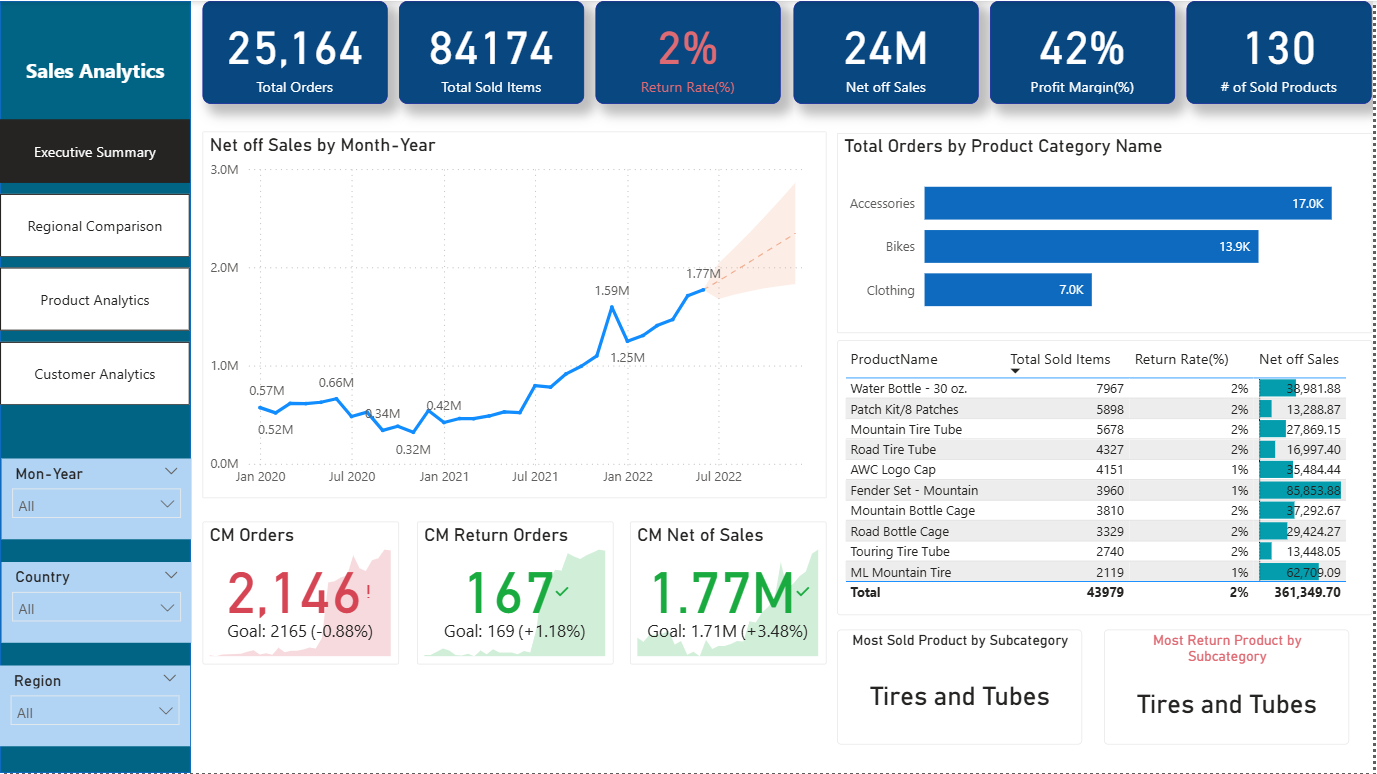

What the dashboard file says about the page in this screenshot:
{"tool":"powerbi","page":{"name":"Executive Summary","canvas":[1280,720],"ordinal":0},"visuals":[{"type":"shape","box":[0,0,178,720],"z":0},{"type":"textbox","box":[0,46.2,177.5,37.5],"z":1000},{"type":"slicer","fields":{"Values":["Dim_Date.Mon-Year"]},"box":[1.1,427.3,177.3,75],"z":2000},{"type":"slicer","fields":{"Values":["Dim_Region.Country"]},"box":[1.1,523.9,177.3,75],"z":3000},{"type":"slicer","fields":{"Values":["Dim_Region.Region"]},"box":[0,619.3,177.3,75],"z":4000},{"type":"pageNavigator","box":[0,110,177.8,266.7],"z":5000},{"type":"card","fields":{"Values":["_DAXMeasures (2).Total Orders"]},"box":[188.6,0,172.9,95.7],"z":6000},{"type":"card","fields":{"Values":["_DAXMeasures (2).Total Sold Items"]},"box":[372.3,0,172.9,95.7],"z":7000},{"type":"card","fields":{"Values":["_DAXMeasures (2).Return Rate(%)"]},"box":[556,0,172.9,95.7],"z":8000},{"type":"card","fields":{"Values":["_DAXMeasures (2).Net off Sales"]},"box":[739.7,0,172.9,95.7],"z":9000},{"type":"card","fields":{"Values":["_DAXMeasures (2).Profit Margin(%)"]},"box":[923.4,0,172.9,95.7],"z":10000},{"type":"card","fields":{"Values":["_DAXMeasures (2).# of Sold Products"]},"box":[1107.1,0,172.9,95.7],"z":11000},{"type":"lineChart","fields":{"Category":["Dim_Date.Start of the Month"],"Y":["_DAXMeasures (2).Net off Sales"]},"box":[188.9,122.2,582.2,342.2],"z":12000},{"type":"barChart","fields":{"Category":["Product_Category.Product Category Name"],"Y":["_DAXMeasures (2).Total Orders"]},"box":[780.8,122.5,499.2,186.7],"z":13000},{"type":"tableEx","fields":{"Values":["Dim_Product.ProductName","_DAXMeasures (2).Total Sold Items","_DAXMeasures (2).Return Rate(%)","_DAXMeasures (2).Net off Sales"]},"box":[780.8,316.7,499.2,256.7],"z":14000},{"type":"kpi","title":"CM Orders","fields":{"Indicator":["_DAXMeasures (2).Total Orders"],"TrendLine":["Dim_Date.Start of the Month"],"Goal":["_DAXMeasures (2).PM orders"]},"box":[189,486,183,133],"z":15000},{"type":"kpi","title":"CM Return Orders","fields":{"TrendLine":["Dim_Date.Start of the Month"],"Indicator":["_DAXMeasures (2).Total Qty Return"],"Goal":["_DAXMeasures (2).PM Return"]},"box":[389,486,183,133],"z":16000},{"type":"kpi","title":"CM Net of Sales","fields":{"TrendLine":["Dim_Date.Start of the Month"],"Indicator":["_DAXMeasures (2).Net off Sales"],"Goal":["_DAXMeasures (2).PM Net off Sales"]},"box":[588,486,183,133],"z":17000},{"type":"card","title":"Most Sold Product by Subcategory","fields":{"Values":["Min(Product_Subcategory.Product Subcategory Name)"]},"box":[781.2,586.2,228.8,107.5],"z":18000},{"type":"card","title":"Most Return Product by Subcategory","fields":{"Values":["Min(Product_Subcategory.Product Subcategory Name)"]},"box":[1030,586.2,228.8,107.5],"z":19000}]}

Visuals, with their boxes in screenshot pixels (x1, y1, x2, y2), scaled from the page's 1280x720 canvas onto the 1377x774 screenshot:
shape: <bbox>0, 0, 191, 773</bbox>
textbox: <bbox>0, 50, 191, 90</bbox>
slicer - Dim_Date.Mon-Year: <bbox>1, 459, 192, 540</bbox>
slicer - Dim_Region.Country: <bbox>1, 563, 192, 644</bbox>
slicer - Dim_Region.Region: <bbox>0, 666, 191, 746</bbox>
pageNavigator: <bbox>0, 118, 191, 405</bbox>
card - _DAXMeasures (2).Total Orders: <bbox>203, 0, 389, 103</bbox>
card - _DAXMeasures (2).Total Sold Items: <bbox>401, 0, 587, 103</bbox>
card - _DAXMeasures (2).Return Rate(%): <bbox>598, 0, 784, 103</bbox>
card - _DAXMeasures (2).Net off Sales: <bbox>796, 0, 982, 103</bbox>
card - _DAXMeasures (2).Profit Margin(%): <bbox>993, 0, 1179, 103</bbox>
card - _DAXMeasures (2).# of Sold Products: <bbox>1191, 0, 1376, 103</bbox>
lineChart - Dim_Date.Start of the Month x _DAXMeasures (2).Net off Sales: <bbox>203, 131, 830, 499</bbox>
barChart - Product_Category.Product Category Name x _DAXMeasures (2).Total Orders: <bbox>840, 132, 1376, 332</bbox>
tableEx - Dim_Product.ProductName x _DAXMeasures (2).Total Sold Items: <bbox>840, 340, 1376, 616</bbox>
"CM Orders" kpi: <bbox>203, 522, 400, 665</bbox>
"CM Return Orders" kpi: <bbox>418, 522, 615, 665</bbox>
"CM Net of Sales" kpi: <bbox>633, 522, 829, 665</bbox>
"Most Sold Product by Subcategory" card: <bbox>840, 630, 1087, 746</bbox>
"Most Return Product by Subcategory" card: <bbox>1108, 630, 1354, 746</bbox>
